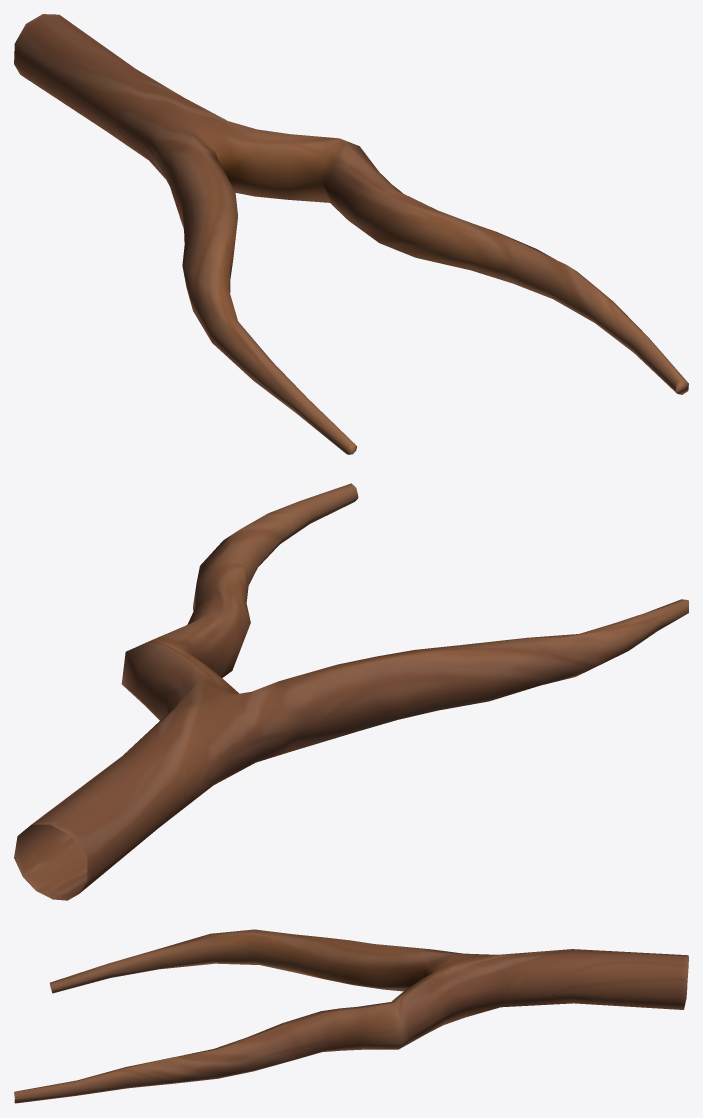
File: Branch2.fbx
3 views of the same model, one above another, from view 1: azimuth 30°, elevation 25°; view 2: azimuth 150°, elevation 25°; view 3: azimuth 270°, elevation 25° (orthographic). The views are drawn at different scales.
Parts seen in each view (by area): view 1: Branch2_lp.002; view 2: Branch2_lp.002; view 3: Branch2_lp.002.
Boxes of the visible parts, x1=… form: Branch2_lp.002: x1=14, y1=14, x2=688, y2=454; Branch2_lp.002: x1=14, y1=483, x2=688, y2=900; Branch2_lp.002: x1=14, y1=929, x2=688, y2=1103.
Bounding box in the file's own units: 82.88 × 24.41 × 185.
